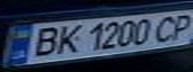0: (133, 16, 157, 47), (118, 17, 139, 48)
1: (84, 20, 106, 52)
2: (103, 19, 124, 51)
B: (21, 25, 66, 58)
C: (148, 14, 184, 43)
K: (48, 22, 84, 56)
P: (163, 11, 193, 40)
